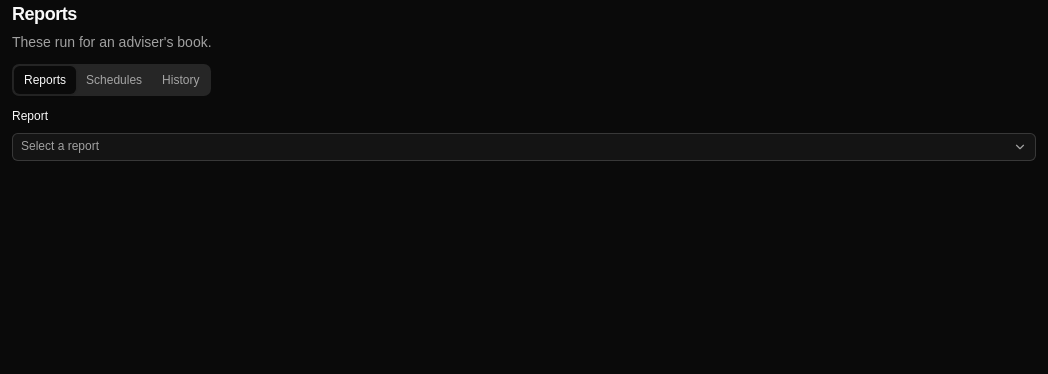
ReportsPage › lists book-scoped reports and does not request customer scope
Expected: the heading "Reports" is shown, [12,4,77,24]
Expected: the text "These run for an adviser's book." is shown, [12,34,212,50]
What coordinates should you click on to do the following:
click the dropdown labelled "report"
I would click on:
 (60, 146)
Its box is [12,132,1036,160].
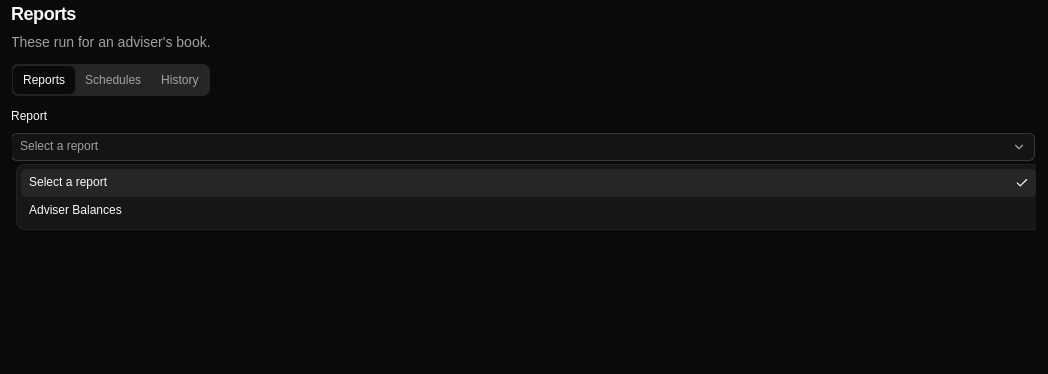
Expected: the text "Cash and holdings for an adviser's book." is not shown
Now the option "Adviser Balances" is shown
What coordinates should you click on to do the following:
click the option "Adviser Balances"
I would click on:
 (75, 210)
Its box is [29,203,122,217].
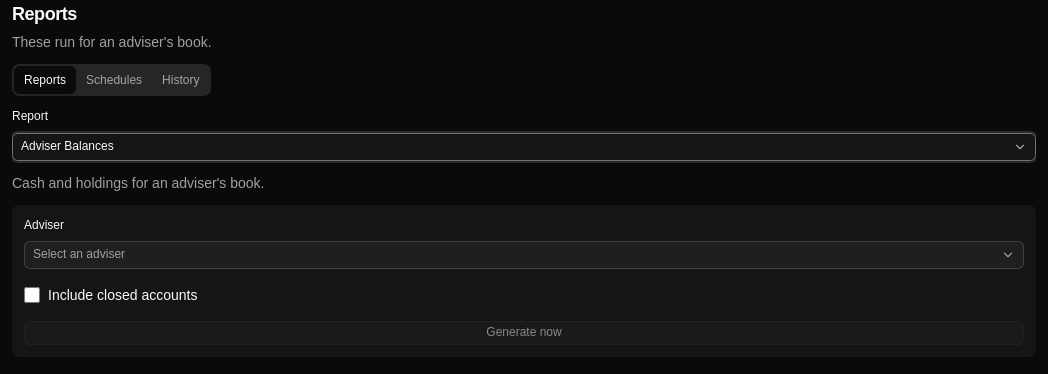
Now the text "Cash and holdings for an adviser's book." is shown, box [12,174,264,190]
Now the checkbox labelled "Include closed accounts" is shown, box [24,287,40,303]
